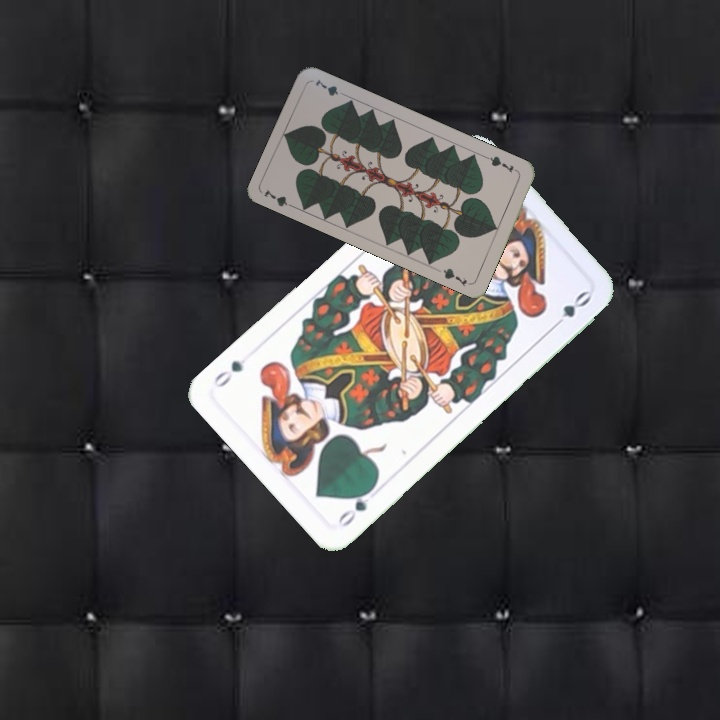G7: (260, 185, 299, 212), (482, 152, 521, 175)
GO: (334, 482, 377, 530)
